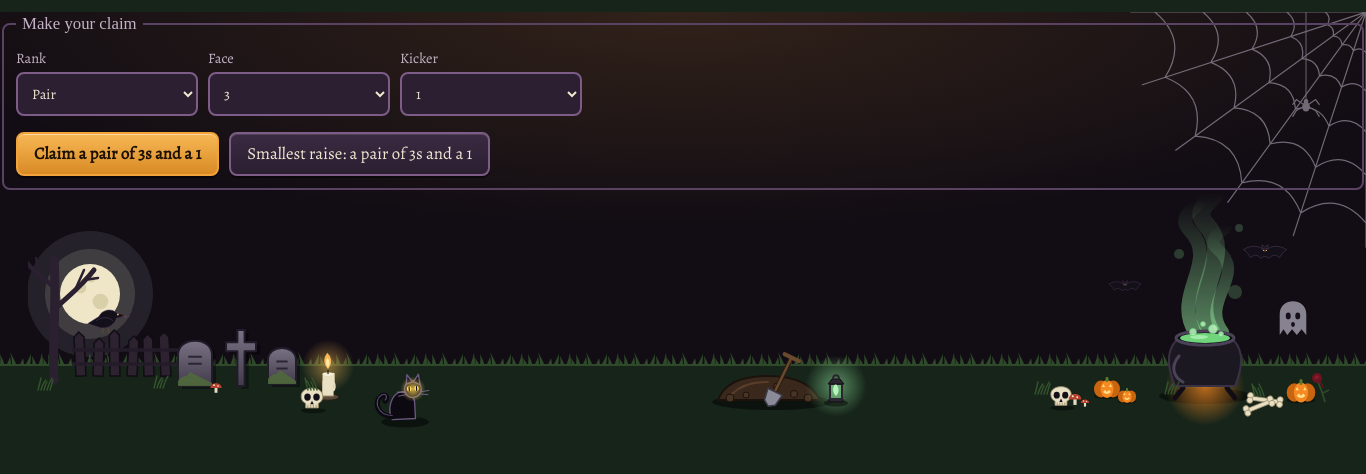
Test case: ClaimPicker › refuses a claim that doesn't beat the standing one
The image size is (1366, 474).
Select "3" in the dropdown labelled "Face": [299, 94] box [208,72,390,116]
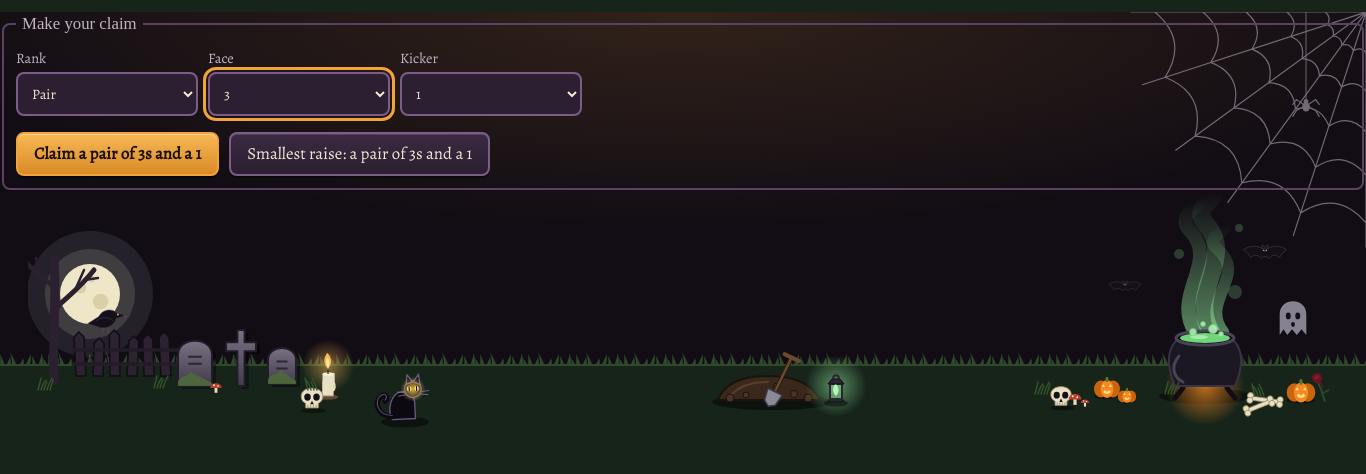
Select "none" in the dropdown labelled "Kicker": [491, 94] box [400,72,582,116]
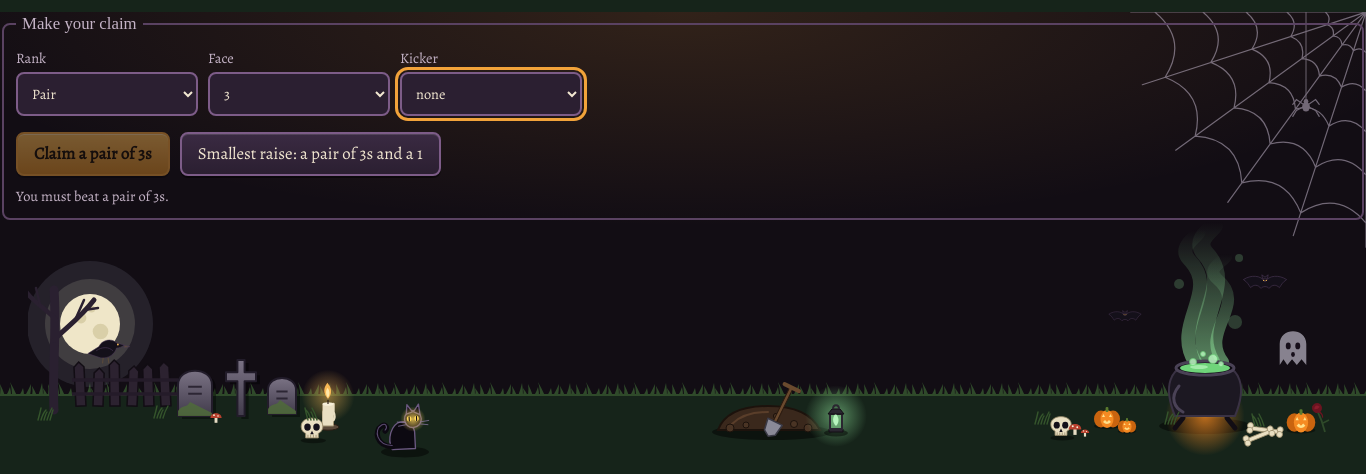
Expected: the button "Claim a pair of 3s" is disabled, [16,132,170,176]
Expected: the text "You must beat a pair of 3s." is shown, [16,186,169,206]
